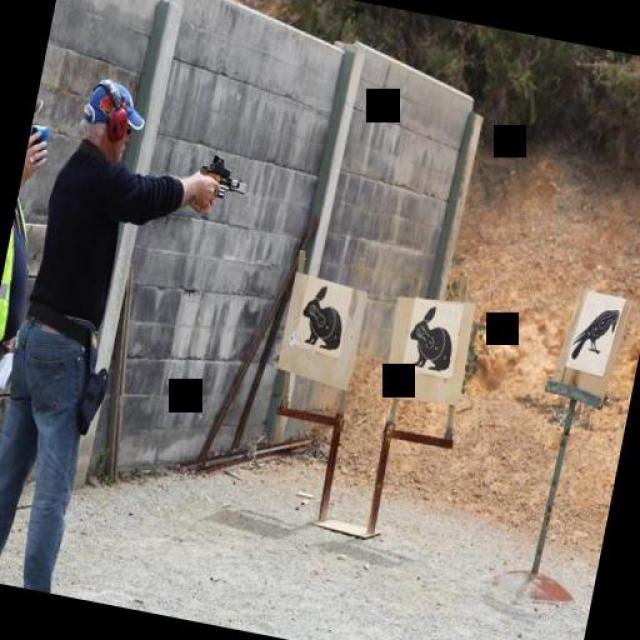gun: (190, 146, 255, 208)
